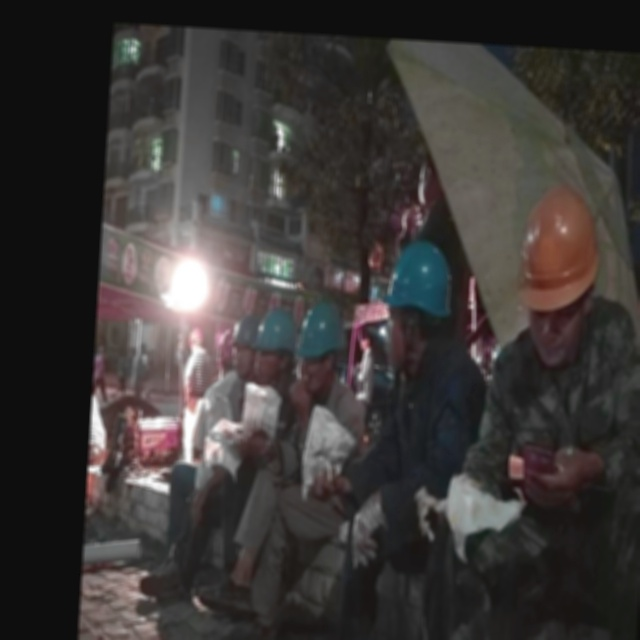Con_Casco: (513, 180, 598, 351), (381, 237, 449, 370)
